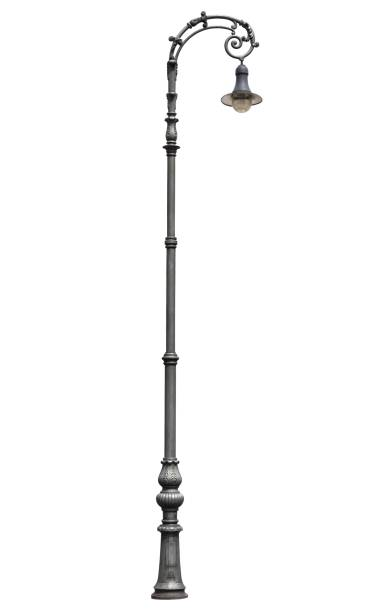light_pole: (154, 61, 182, 604)
